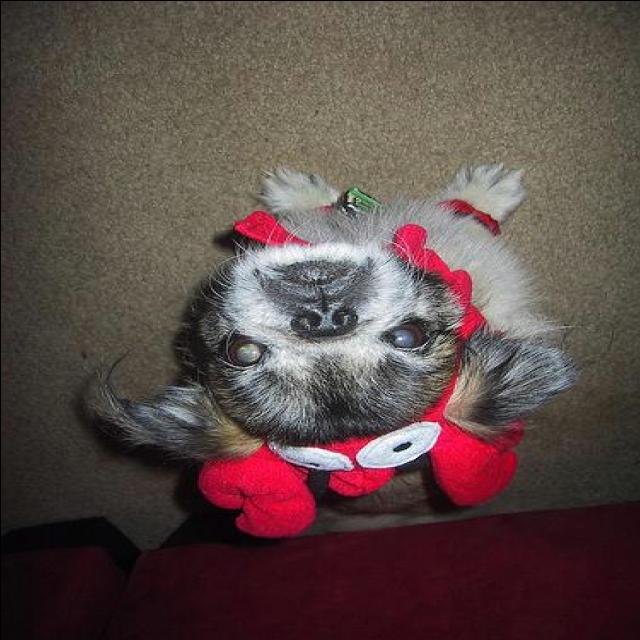pekinese: (66, 158, 584, 538)
